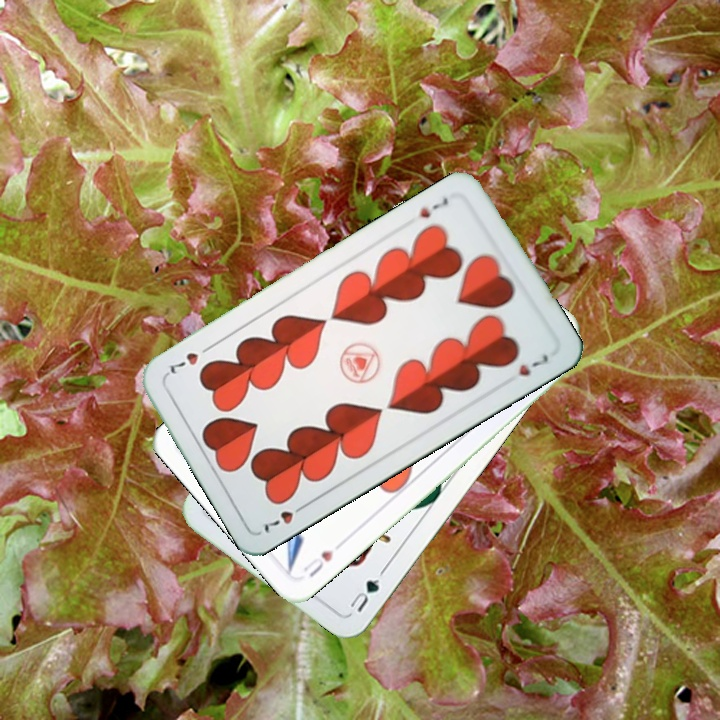GU: (344, 565, 388, 615)
H7: (260, 498, 311, 536), (415, 193, 451, 221)
HU: (299, 546, 336, 580)
